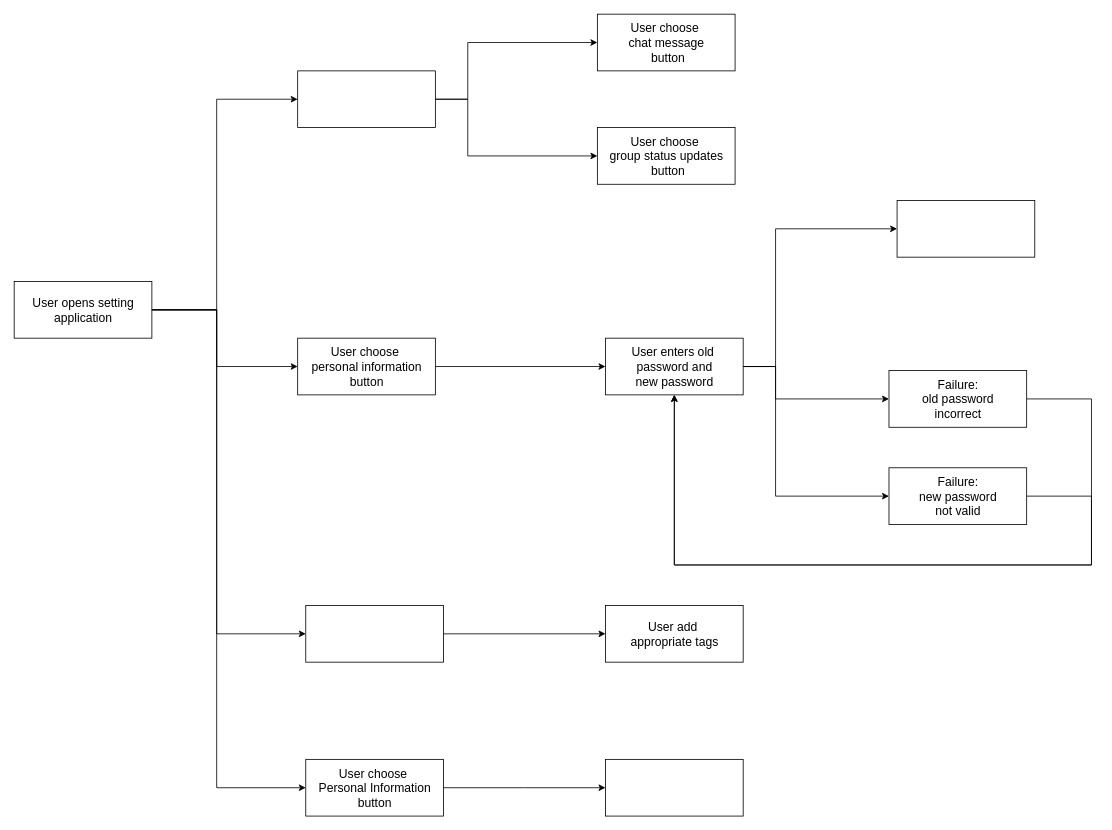
This 1112x830 diagram has some shape labels left out. The shapes that lost their labels are listed below. From the top down, each one's box as (x1, y1, x2, y2) in pixels, then its label:
(297, 70, 435, 128): User choose notification button
(896, 200, 1035, 257): Success: updated
(305, 605, 443, 662): User choose item preference button
(605, 759, 743, 816): User modifies info and click update button
